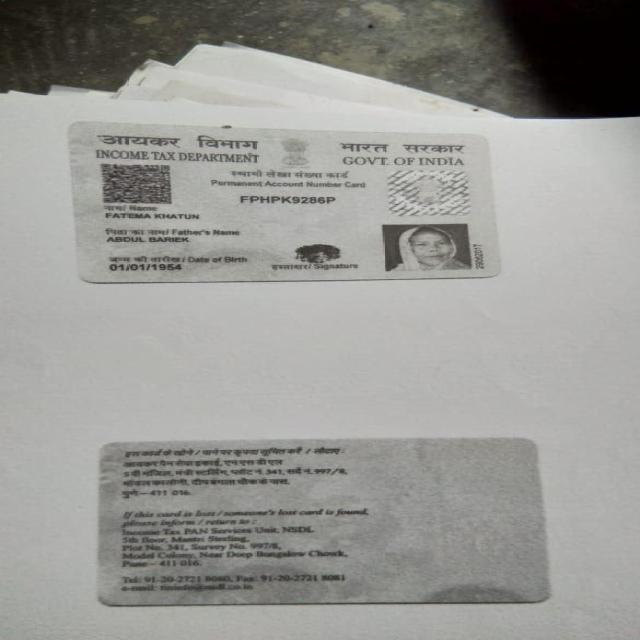pan_card: (102, 433, 549, 604), (63, 125, 500, 289)
